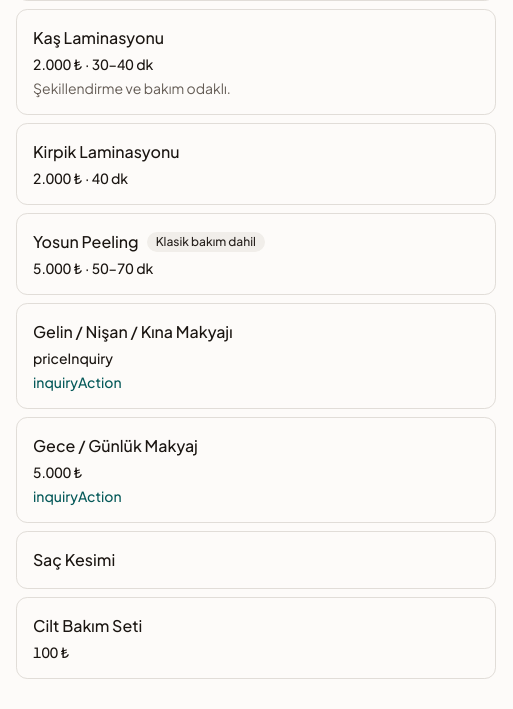
Scenario: inquiry services never enter booking › without any configured contact it says to contact the salon directly (no dead buttons)
(page scrolled)
Click the button with test id "service-card" at (133,332), box left=16, top=303, right=496, bottom=409
(page scrolled)
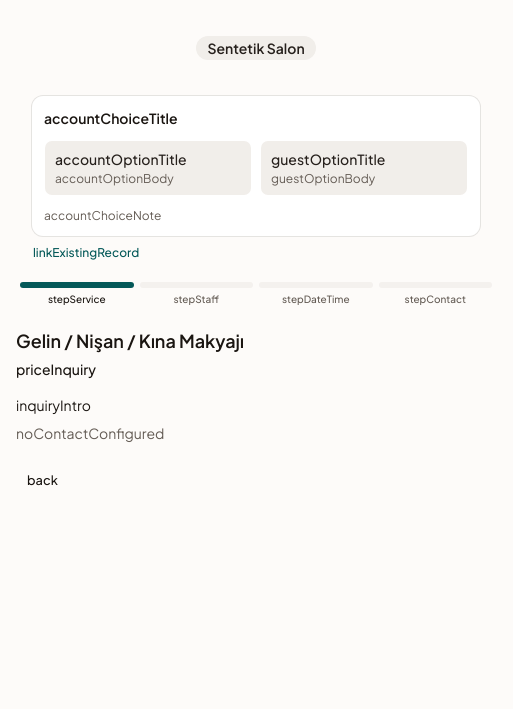
expect the text "noContactConfigured" is shown: met, box left=16, top=424, right=164, bottom=442
